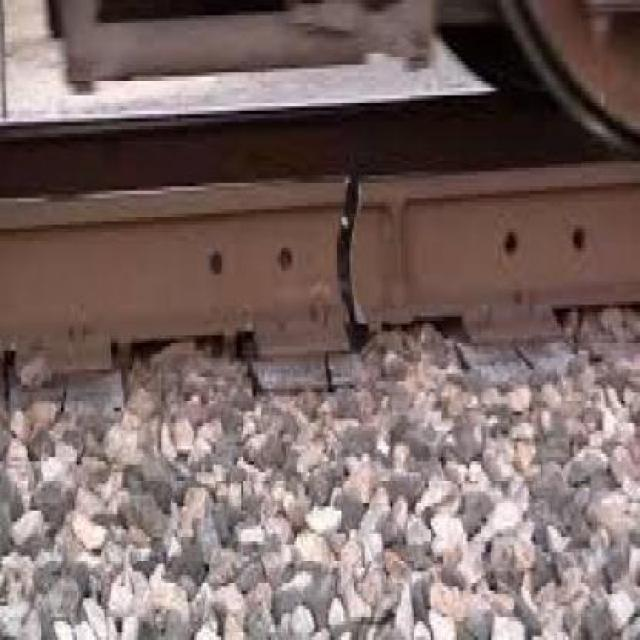defective: (210, 105, 640, 491)
